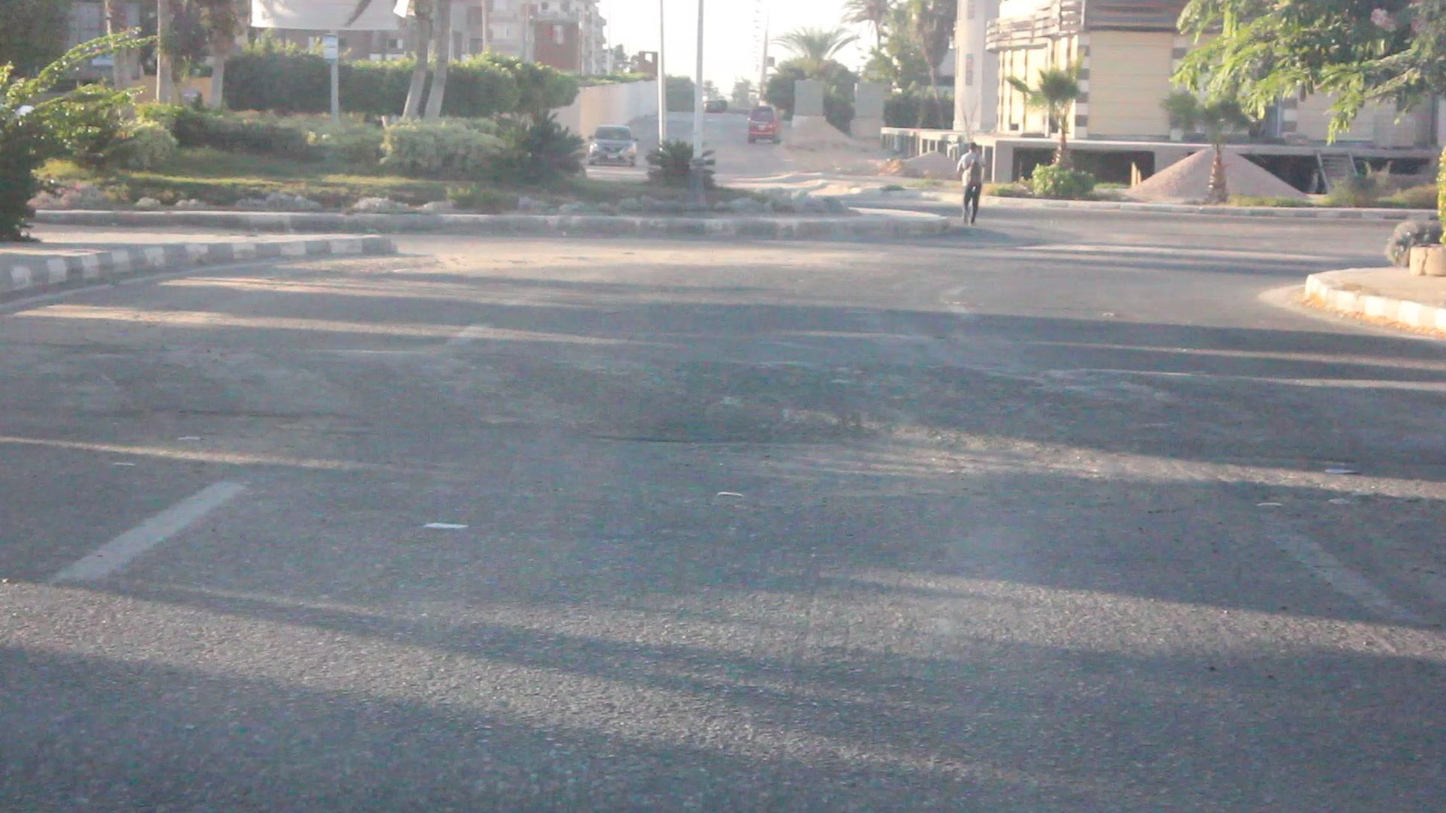Bump: (0, 341, 1445, 466)
